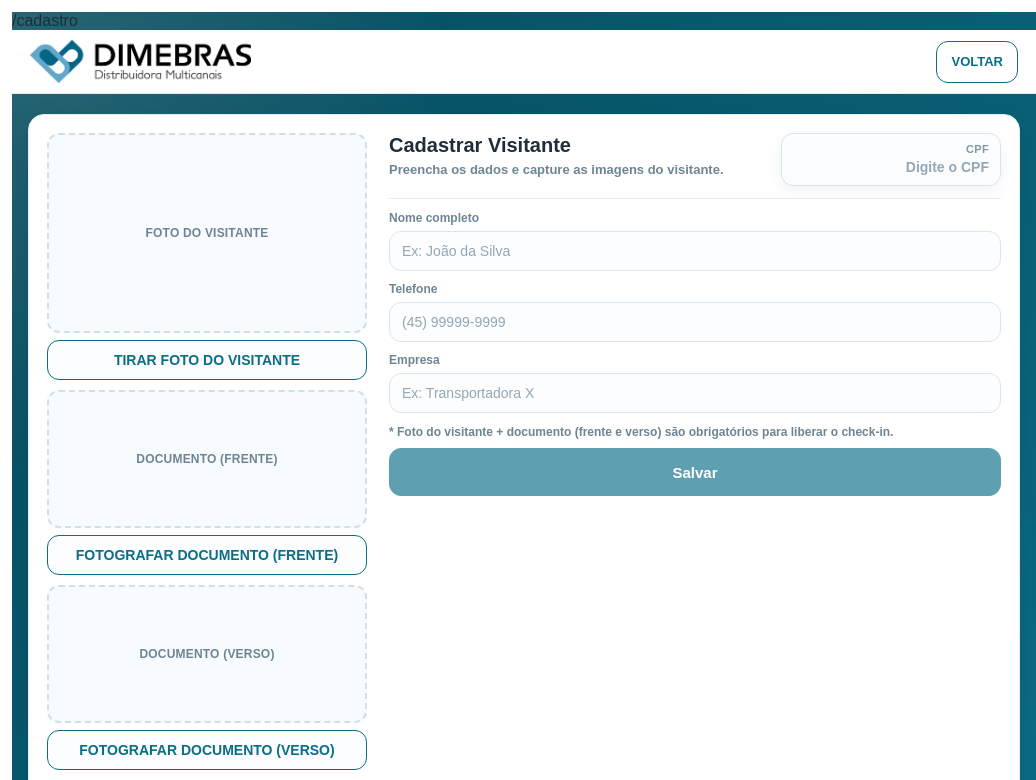
Test case: CadastroVisitante CPF feedback › mostra feedback positivo para CPF completo e valido
In the field labelled "CPF": (891,167) [793, 159, 989, 175], type "52998224725"
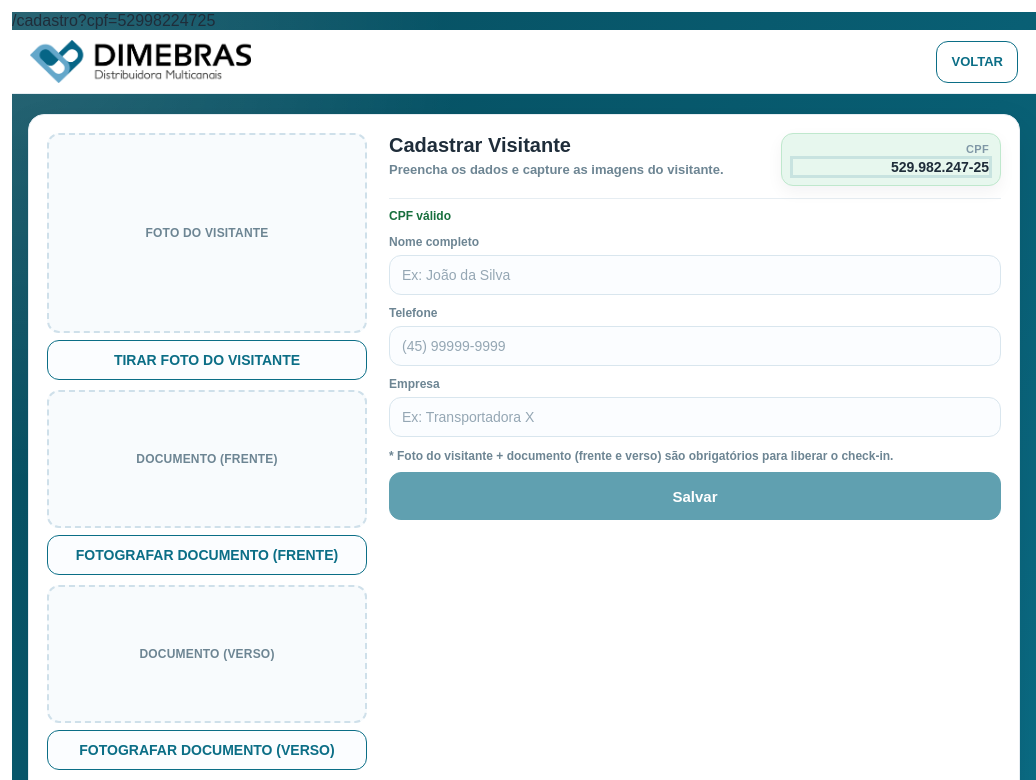
Now the text "CPF válido" is shown, box [389, 209, 451, 223]
